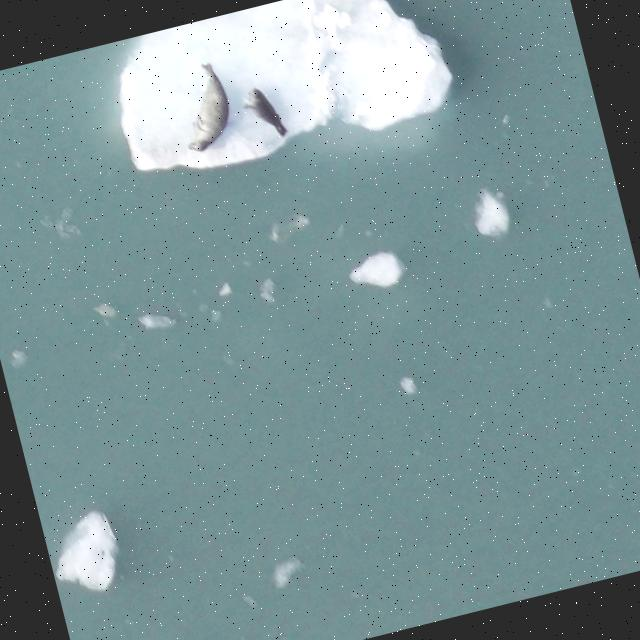seal: (162, 53, 243, 159), (236, 79, 291, 149)
